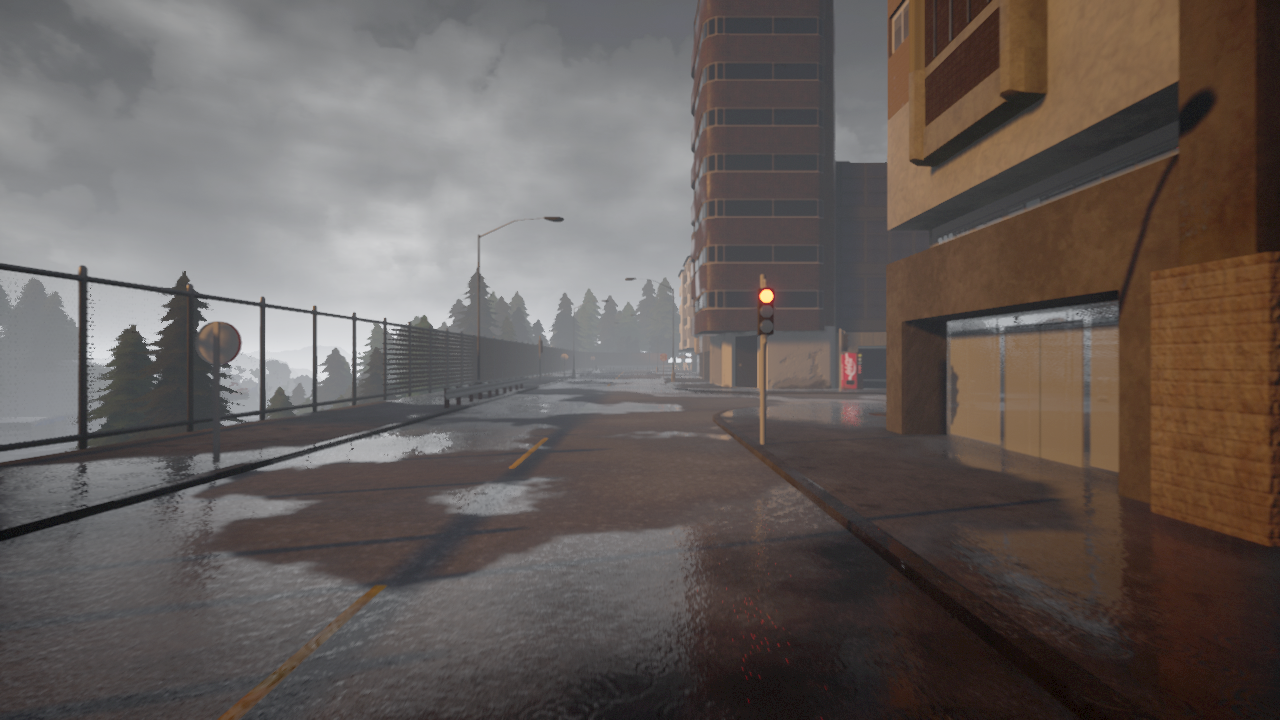red: (757, 287, 777, 336)
